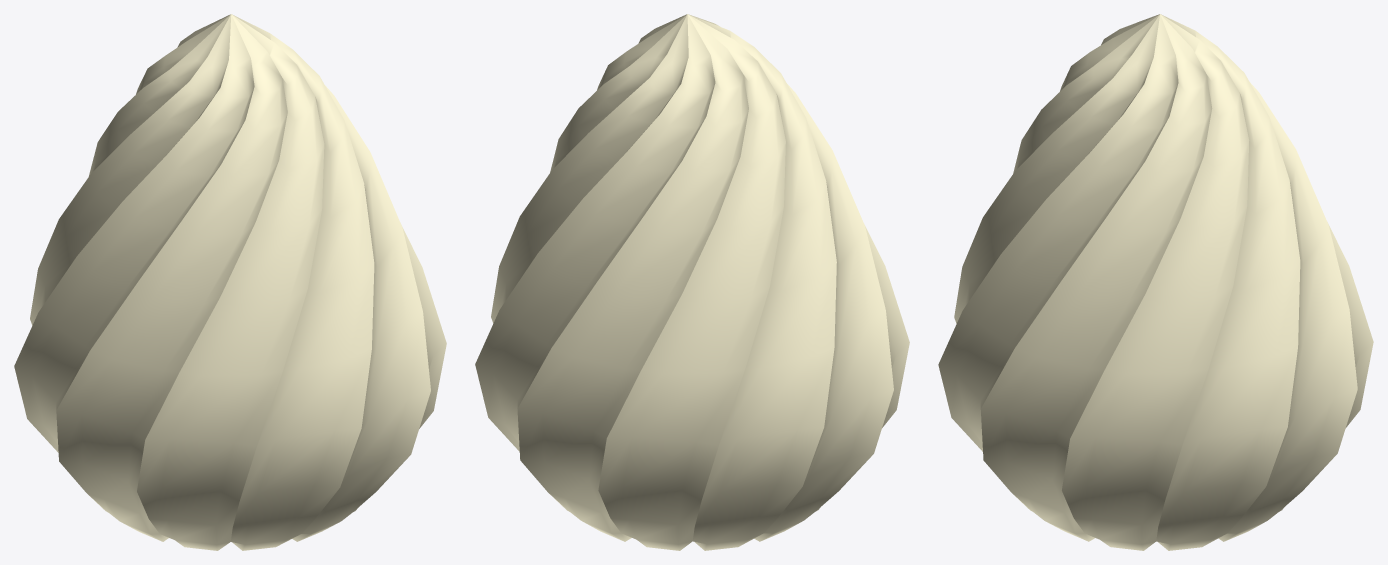
The model's file is Ice Cream Spiral A White.fbx.
3 renders of one model, left to right at view 1: azimuth 30°, elevation 25°; view 2: azimuth 150°, elevation 25°; view 3: azimuth 270°, elevation 25°, orthographic.
Visible parts, largest first — view 1: Ice Cream Spiral A White; view 2: Ice Cream Spiral A White; view 3: Ice Cream Spiral A White.
Part boxes in pixels (box(x1,y1,x2,y2)): Ice Cream Spiral A White: box(14, 14, 446, 550); Ice Cream Spiral A White: box(475, 14, 909, 550); Ice Cream Spiral A White: box(938, 14, 1373, 550).
Size of the model in its own units: 0.4046 by 0.503 by 0.4046.
